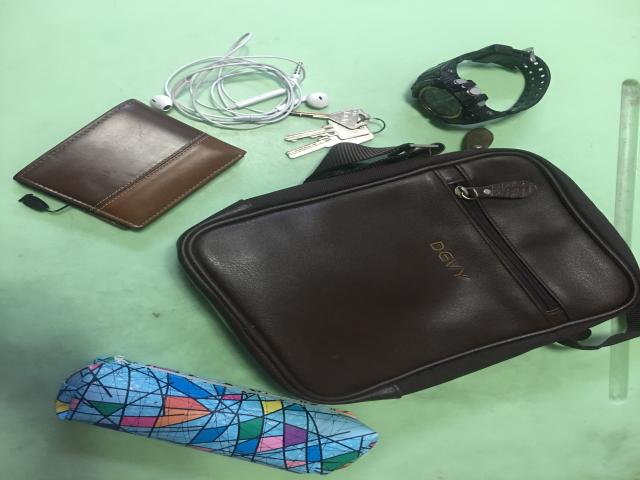Keys: (285, 109, 373, 158)
Wallet: (13, 99, 245, 229)
Watch: (412, 44, 550, 125)
wire: (150, 33, 328, 129)
